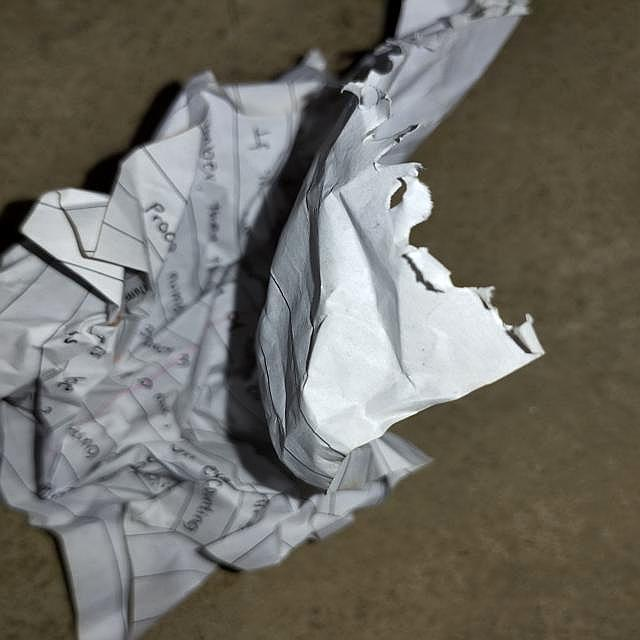Biodegradable: (1, 1, 541, 640)
